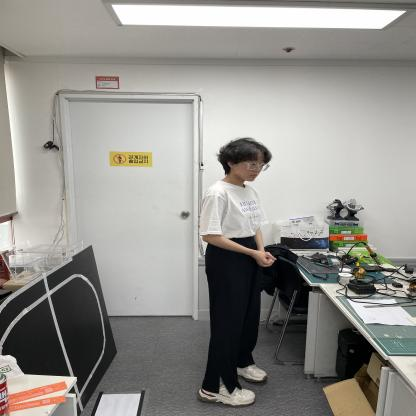normal: (199, 135, 278, 407)
